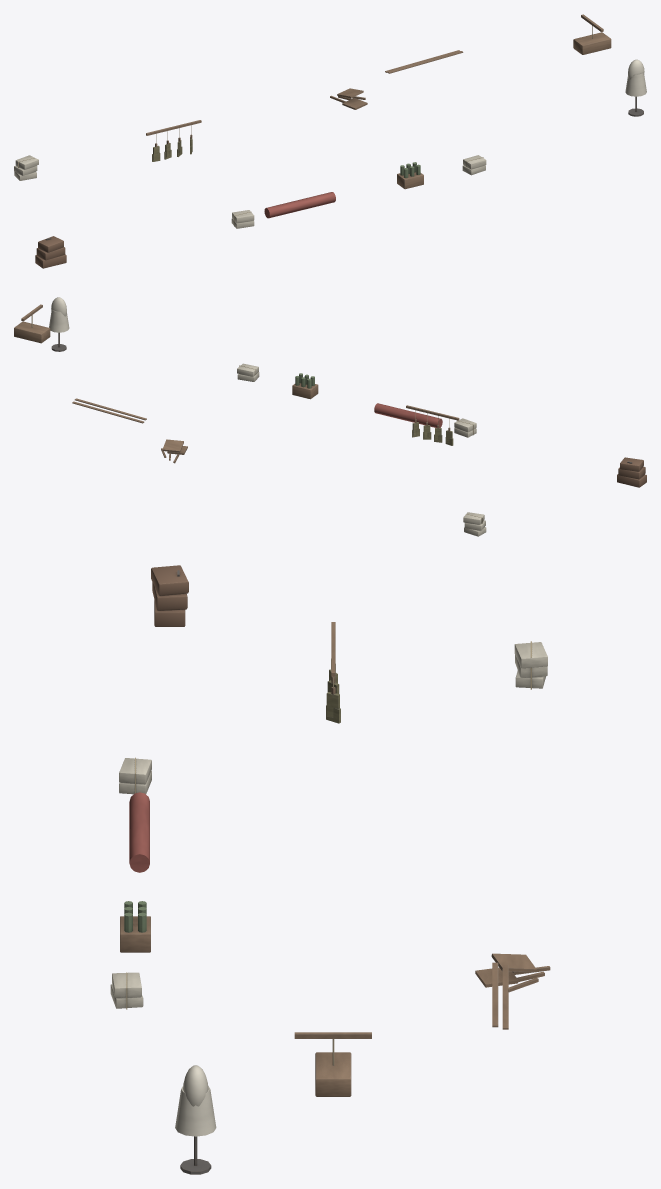
File: attic_junk.glb
3 views of the same model, one above another, from view 1: azimuth 30°, elevation 25°; view 2: azimuth 150°, elevation 25°; view 3: azimuth 270°, elevation 25° (orthographic). The views are drawn at different scales.
Visible parts, largest first — view 1: attic_junk; view 2: attic_junk; view 3: attic_junk.
Part boxes in pixels (x1,y1,x2,y2): attic_junk: (14,14,646,268); attic_junk: (14,297,646,536); attic_junk: (110,565,550,1174).
Size of the model in its own units: 15.75 by 1.65 by 5.11.
1 material, 1 textured.
